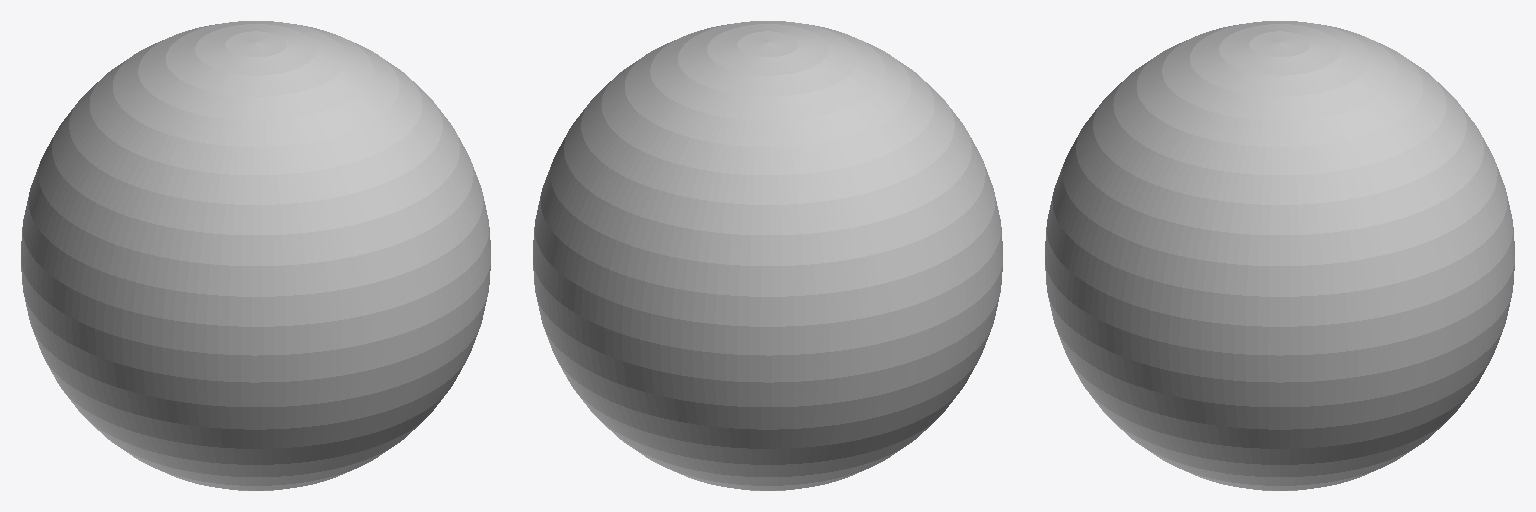
Rendered from Mercury.obj.
The picture shows the model from 3 angles: view 1: azimuth 30°, elevation 25°; view 2: azimuth 150°, elevation 25°; view 3: azimuth 270°, elevation 25°; orthographic projection.
Visible parts, largest first — view 1: Sphere_Material.002_0.003; view 2: Sphere_Material.002_0.003; view 3: Sphere_Material.002_0.003.
Part boxes in pixels (x1,y1,x2,y2): Sphere_Material.002_0.003: (21,21,490,490); Sphere_Material.002_0.003: (533,21,1002,490); Sphere_Material.002_0.003: (1045,21,1514,490).
Size of the model in its own units: 3.03 by 3.03 by 3.03.